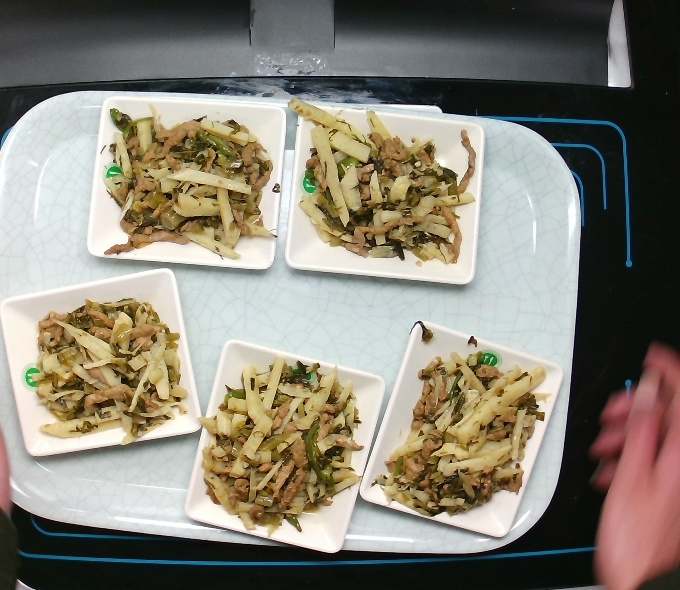wcq-RouSiDongSun: (282, 94, 487, 271), (378, 333, 559, 525), (196, 354, 366, 535), (97, 101, 280, 266), (24, 288, 189, 448)
